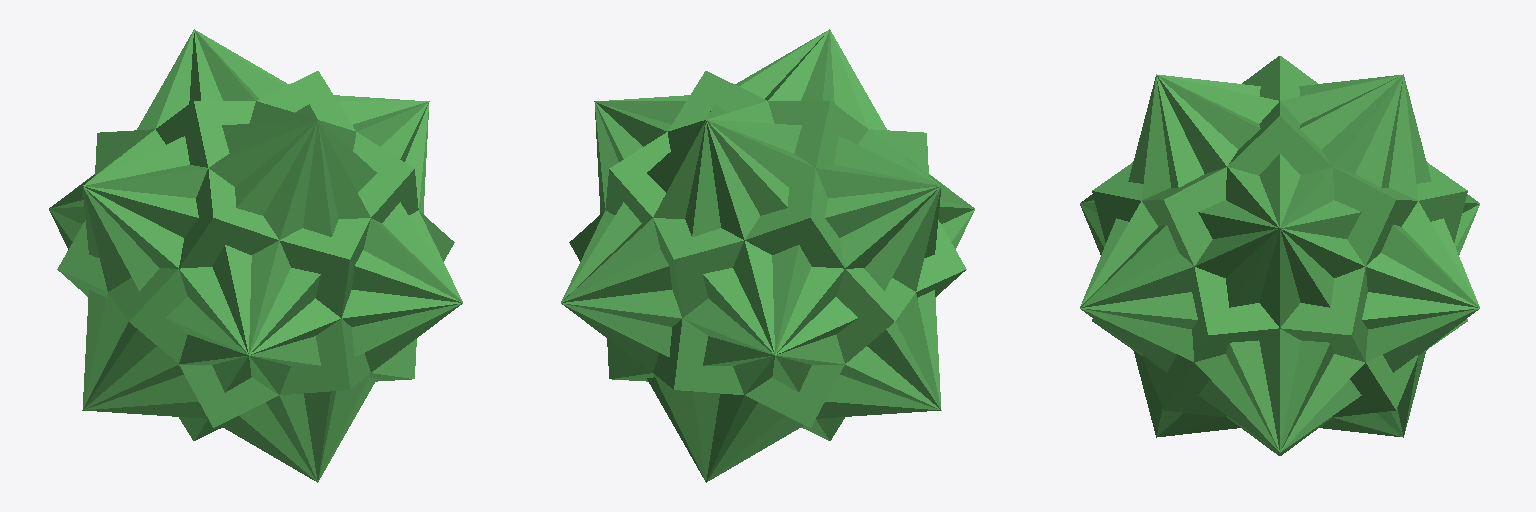
The model's file is GreatDodecacronicHexecontahedron.obj.
3 views of the same model, side by side, from view 1: azimuth 30°, elevation 25°; view 2: azimuth 150°, elevation 25°; view 3: azimuth 270°, elevation 25° (orthographic).
Bounding box in the file's own units: 1.24 × 1.24 × 1.24.